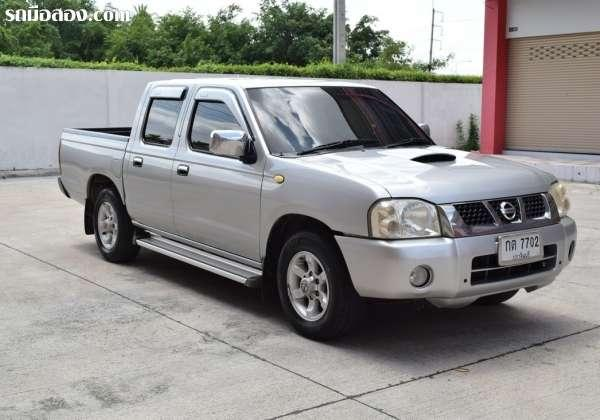pickup: (54, 70, 580, 342)
